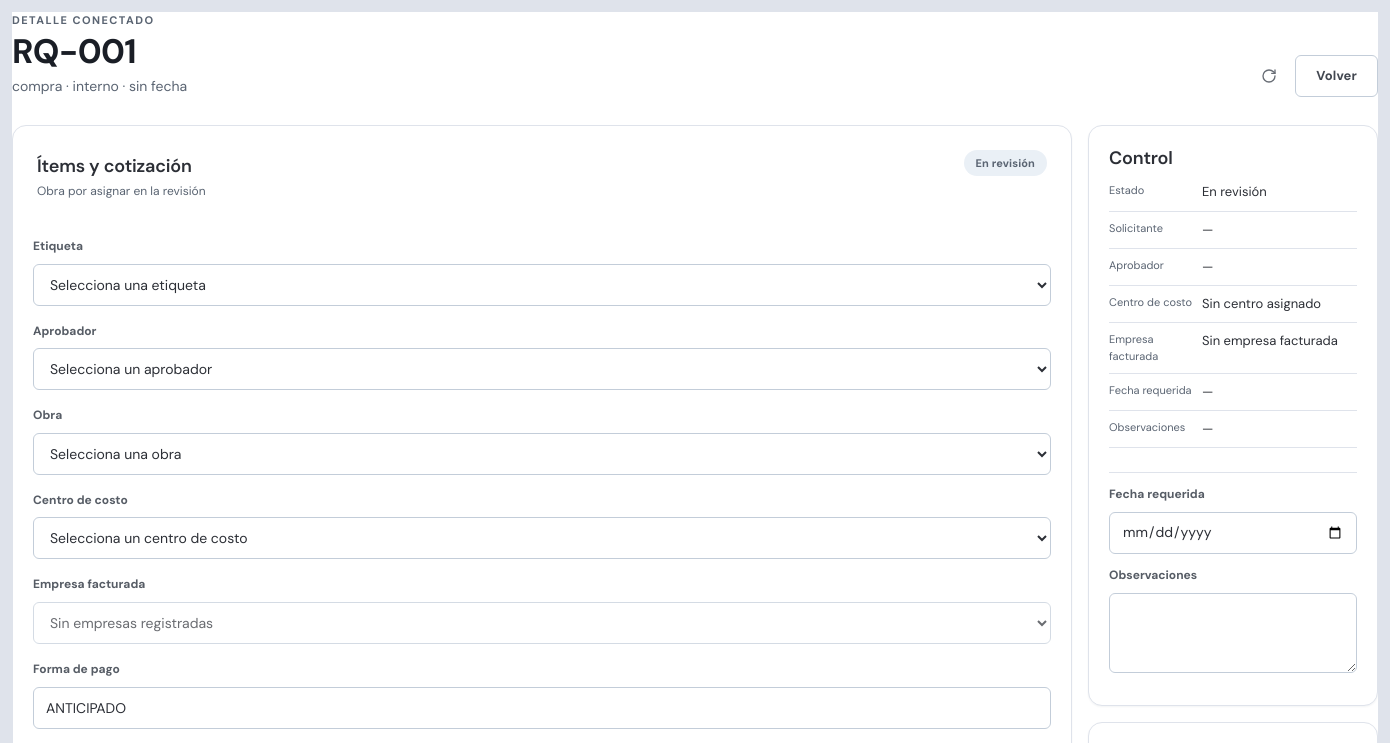
Test case: centro de costo: precarga desde la obra, editable, viaja en el body › al elegir obra, precarga el centro de costo DEFAULT de esa obra
Check: the dropdown labelled "Centro de costo" shows "Selecciona un centro de costo", box x1=33 y1=518 x2=1051 y2=560
Select "Torre Norte" in the dropdown labelled "Obra": (542, 454) x1=33 y1=433 x2=1051 y2=475
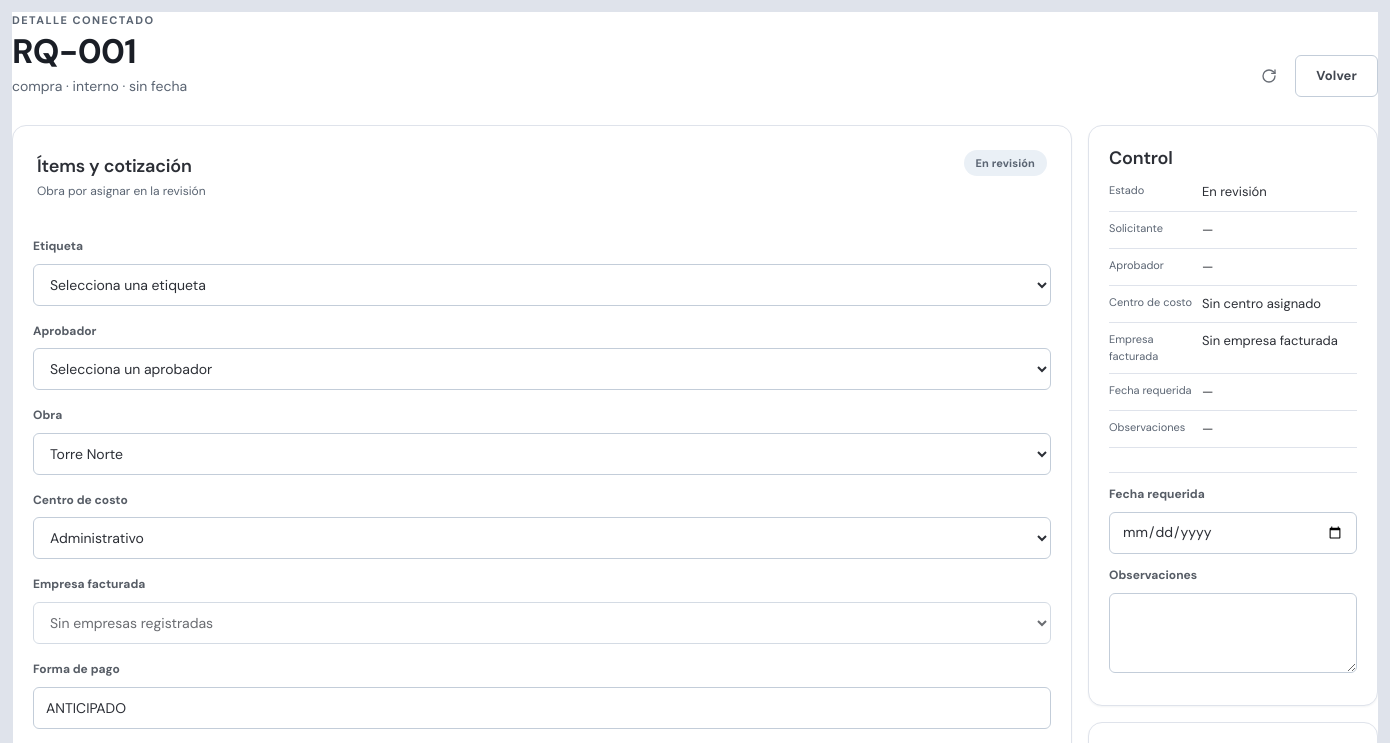
Check: the dropdown labelled "Centro de costo" shows "Administrativo", box x1=33 y1=518 x2=1051 y2=560
